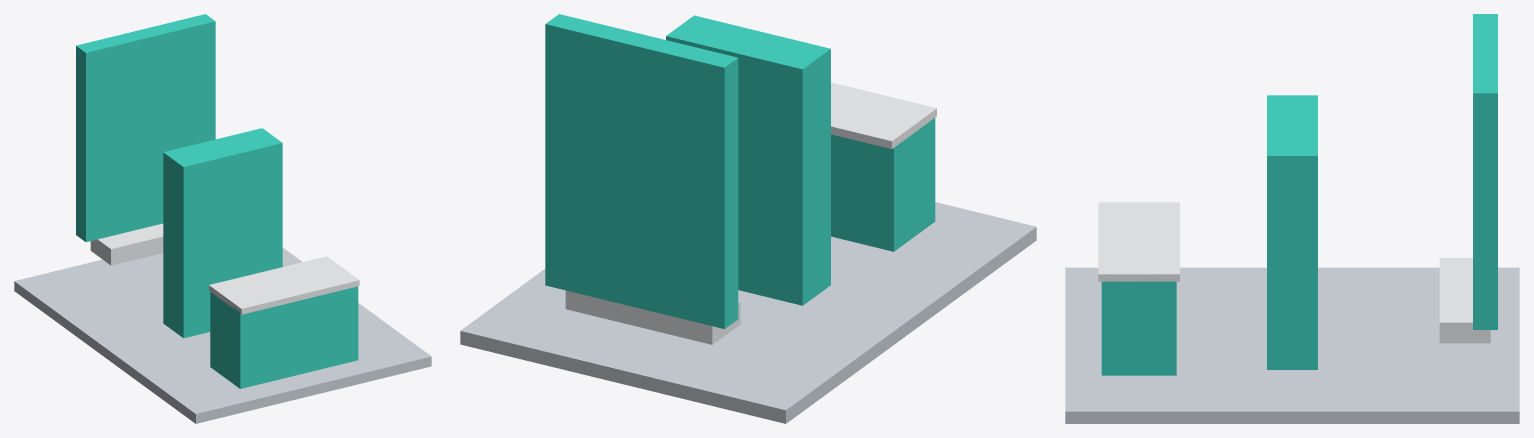
The picture shows the model from 3 angles, left to right: view 1: azimuth 30°, elevation 25°; view 2: azimuth 150°, elevation 25°; view 3: azimuth 270°, elevation 25°; orthographic projection. The views are drawn at different scales.
Parts seen in each view (by area): view 1: Exhibition Booth Concept; view 2: Exhibition Booth Concept; view 3: Exhibition Booth Concept.
Boxes of the visible parts, left/top/right/bottom form: Exhibition Booth Concept: left=14, top=14, right=431, bottom=423; Exhibition Booth Concept: left=460, top=14, right=1036, bottom=423; Exhibition Booth Concept: left=1065, top=14, right=1519, bottom=423.
Size of the model in its own units: 3 by 2.9 by 4.
